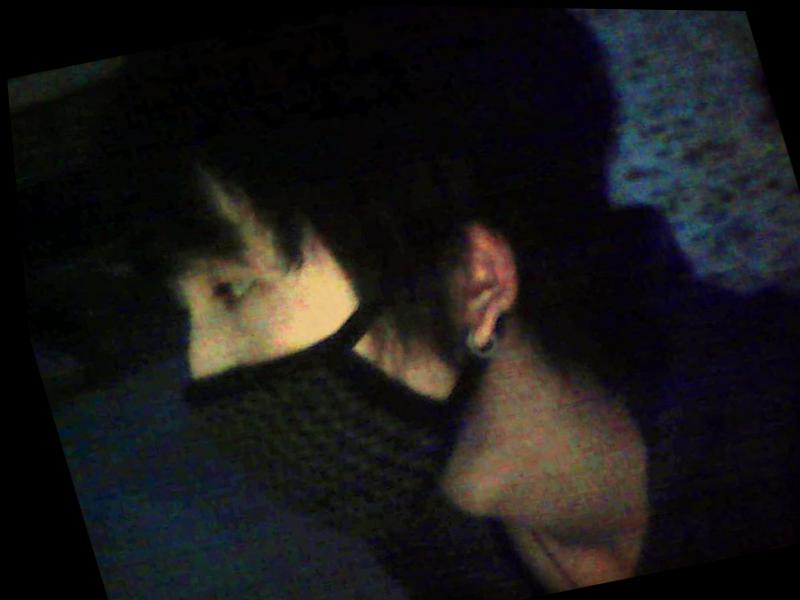WRONG: (117, 139, 466, 552)
